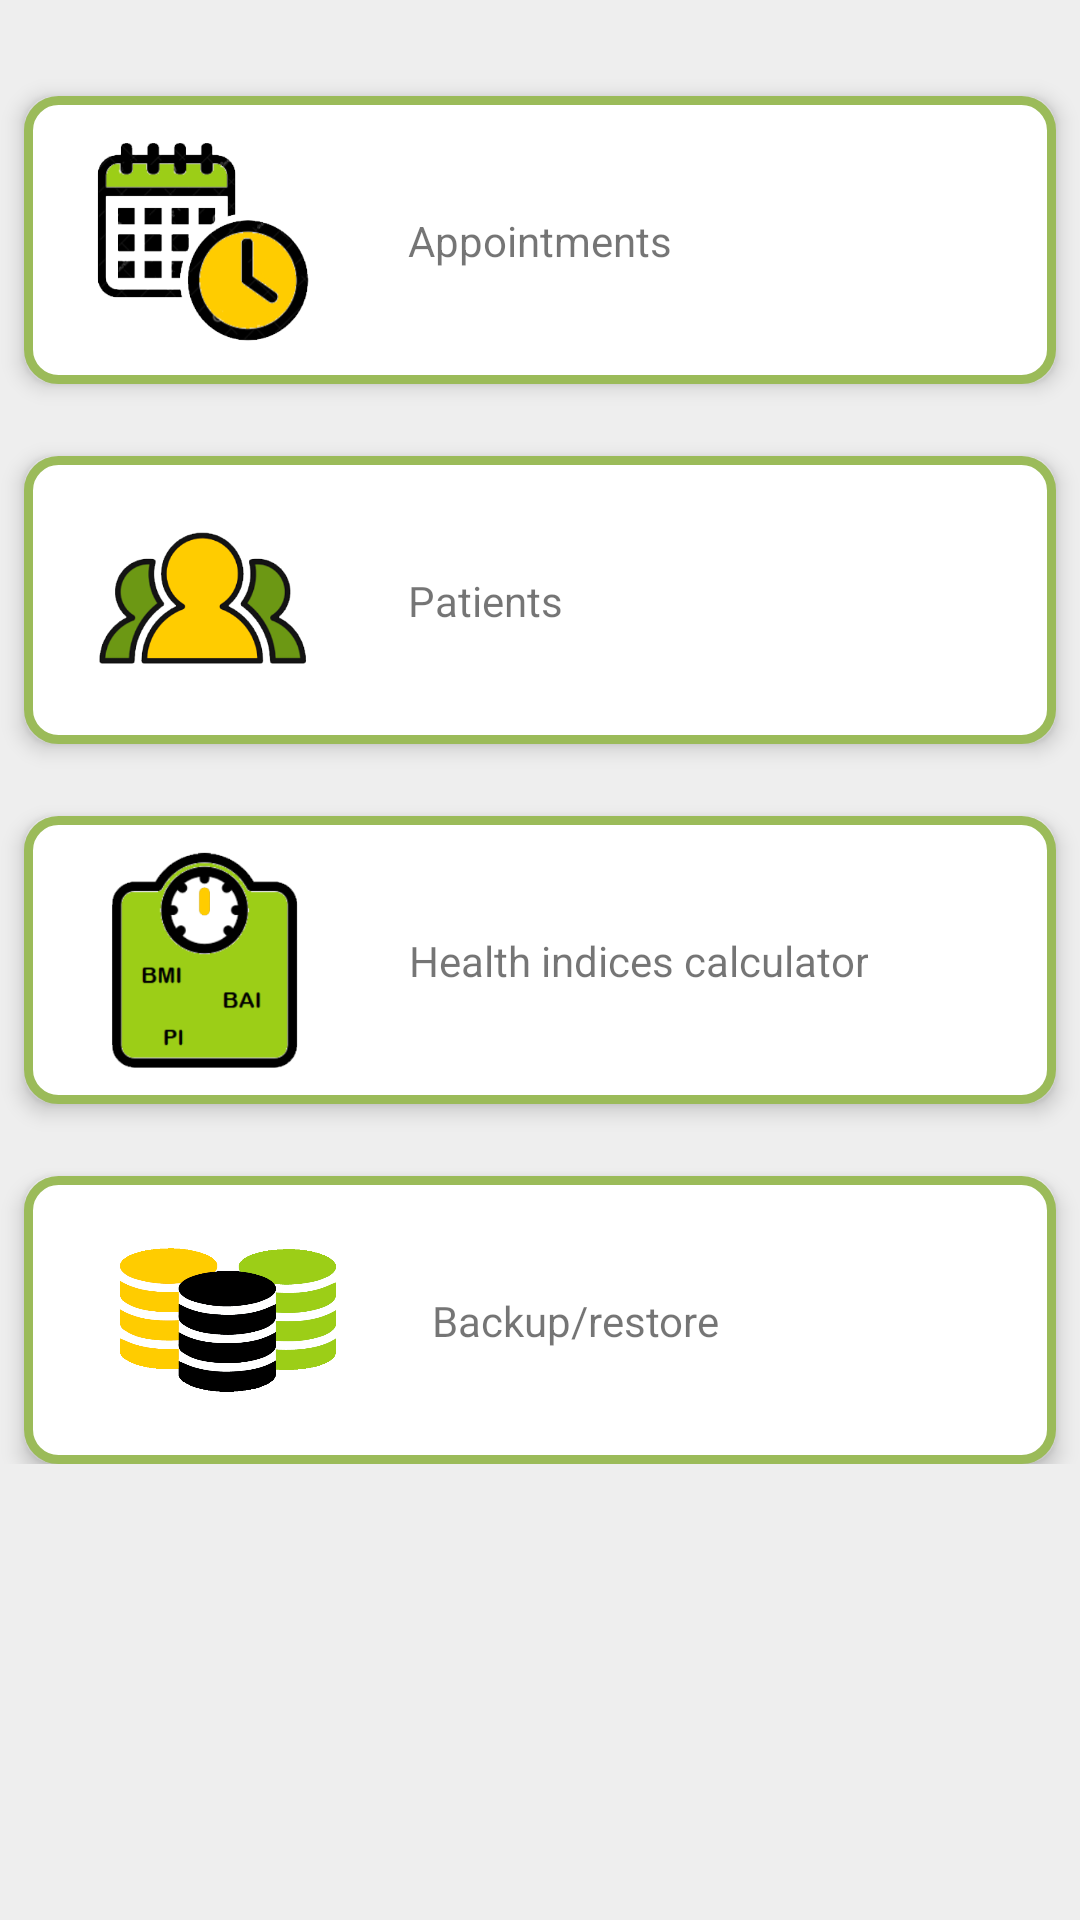

Locate icon controls on the screen. Image size 1080×1920, boxes as BBox(x1, y1, x2, y2).
importexport: BBox(120, 1248, 336, 1392)
